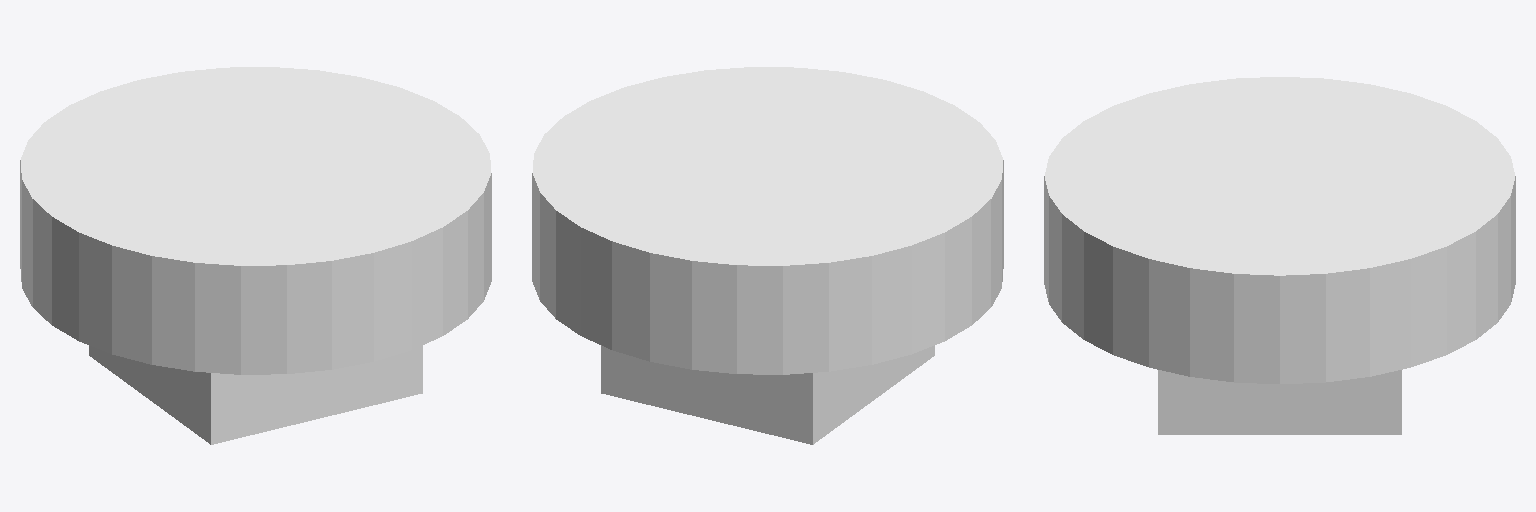
URDF robot description (circle.urdf):
<?xml version="1.0" ?>
<robot name="circle.urdf">

  <link name="base">
    <contact>
    	<friction_anchor/>
    	<lateral_friction value="1.0"/>
    </contact>
    <inertial>
      <origin rpy="0 0 0" xyz="0 0 0"/>
       <mass value=".1"/>
       <inertia ixx="1" ixy="0" ixz="0" iyy="1" iyz="0" izz="1"/>
    </inertial>
    <visual>
      <origin rpy="0 0 0" xyz="0 0 0"/>
      <geometry>
				<box size="0.056 0.056 0.025"/>
      </geometry>
       <material name="white">
        <color rgba="1.0 1.0 1.0 1"/>
      </material>
    </visual>
    <collision>
      <origin rpy="0 0 0" xyz="0 0 0"/>
      <geometry>
        <box size="0.056 0.056 0.025"/>
      </geometry>
    </collision>
  </link>

  <link name="circle">
    <contact>
    	<friction_anchor/>
    	<lateral_friction value="1.0"/>
    </contact>
    <inertial>
      <origin rpy="0 0 0" xyz="0 0 0.01375"/>
       <mass value=".1"/>
       <inertia ixx="1" ixy="0" ixz="0" iyy="1" iyz="0" izz="1"/>
    </inertial>
    <visual>
      <origin rpy="0 0 0" xyz="0 0 0.01375"/>
      <geometry>
	<cylinder radius="0.054" length="0.0275"/>
      </geometry>
      <material name="white">
       <color rgba="1.0 1.0 1.0 1"/>
     </material>
    </visual>
    <collision>
      <origin rpy="0 0 0" xyz="0 0 0.01375"/>
      <geometry>
        <cylinder radius="0.054" length="0.0275"/>
      </geometry>
    </collision>
  </link>

  <joint name="base_joint" type="fixed">
     <origin xyz="0 0 0.0125" rpy="0 0 0"/>
     <axis xyz="0 0 1"/>
     <parent link="base"/>
     <child link="circle"/>
  </joint>

</robot>

--- Render facts (derived) ---
Views: 3 orthographic renders of the robot side by side, from view 1: azimuth 30°, elevation 25°; view 2: azimuth 150°, elevation 25°; view 3: azimuth 270°, elevation 25°.
Robot: circle.urdf — 2 links, 1 joints (1 fixed); root link base; default pose: every joint at zero.
Visible links, largest first — view 1: circle, base; view 2: circle, base; view 3: circle, base.
Boxes of the visible links, x1,y1,x2,y2 form: circle: (20, 67, 491, 374); base: (89, 345, 422, 444); circle: (532, 67, 1003, 374); base: (601, 345, 934, 444); circle: (1044, 77, 1515, 383); base: (1158, 370, 1401, 434).
Bounding box of the posed robot: 0.108 × 0.108 × 0.0525 m (x, y, z).
Geometry: primitives only (box / cylinder / sphere), no mesh files.